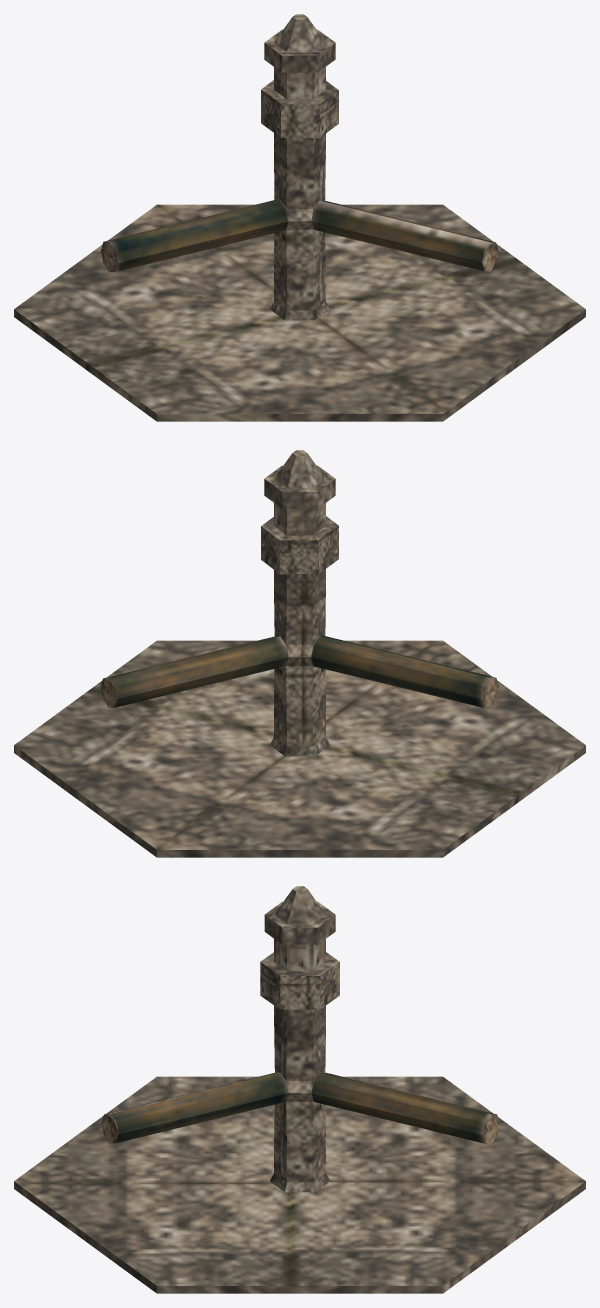
File: m_reel_2_all.fbx
The picture shows the model from 3 angles, top to bottom: view 1: azimuth 30°, elevation 25°; view 2: azimuth 150°, elevation 25°; view 3: azimuth 270°, elevation 25°; orthographic projection.
Visible parts, largest first — view 1: Cylinder; view 2: Cylinder; view 3: Cylinder.
Part boxes in pixels (x1=…): Cylinder: x1=14, y1=14, x2=585, y2=421; Cylinder: x1=14, y1=450, x2=585, y2=857; Cylinder: x1=14, y1=886, x2=585, y2=1293.
Bounding box in the file's own units: 796 × 532 × 919.
